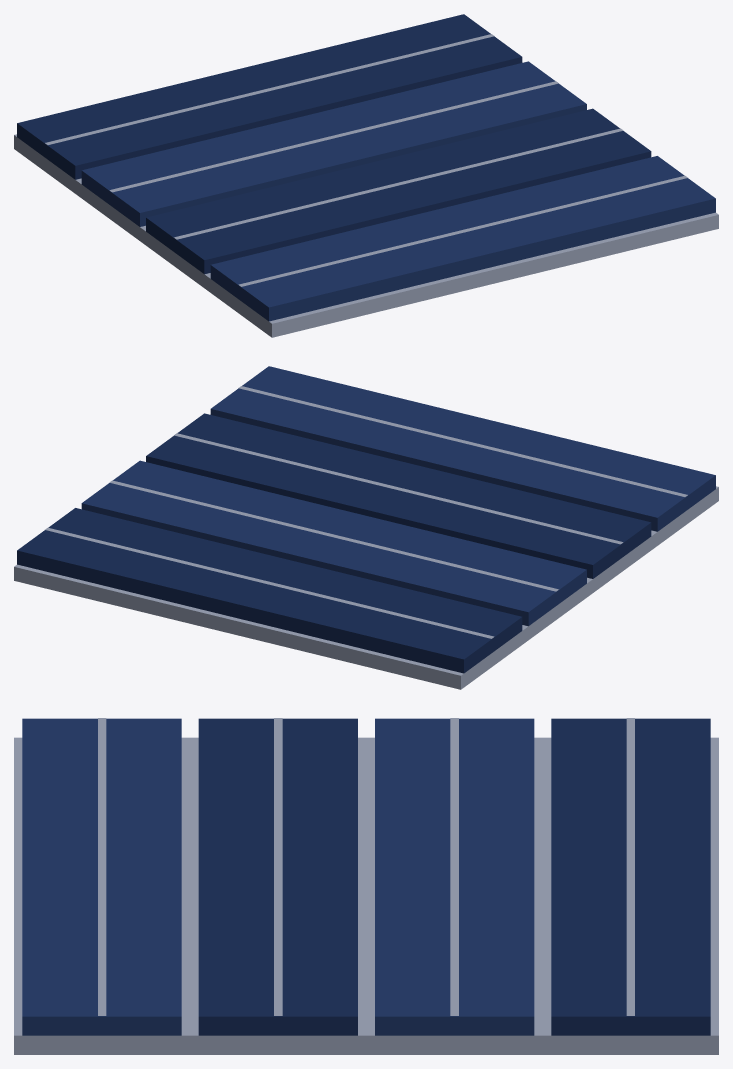
File: boden_deck_a.glb
3 renders of one model, top to bottom at view 1: azimuth 30°, elevation 25°; view 2: azimuth 150°, elevation 25°; view 3: azimuth 270°, elevation 25°, orthographic. The views are drawn at different scales.
Parts seen in each view (by area): view 1: boden_deck_a; view 2: boden_deck_a; view 3: boden_deck_a.
Part boxes in pixels (x1,y1,x2,y2): boden_deck_a: (14,14,718,337); boden_deck_a: (14,366,718,689); boden_deck_a: (14,718,718,1054).
Bounding box in the file's own units: 1 × 0.0608 × 1.
